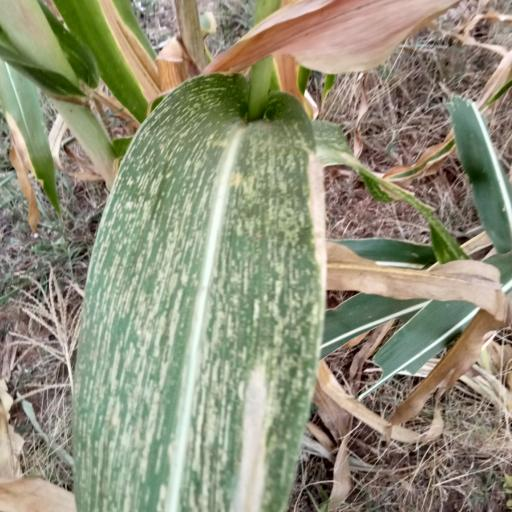Corn_Streak: (70, 66, 326, 512)
